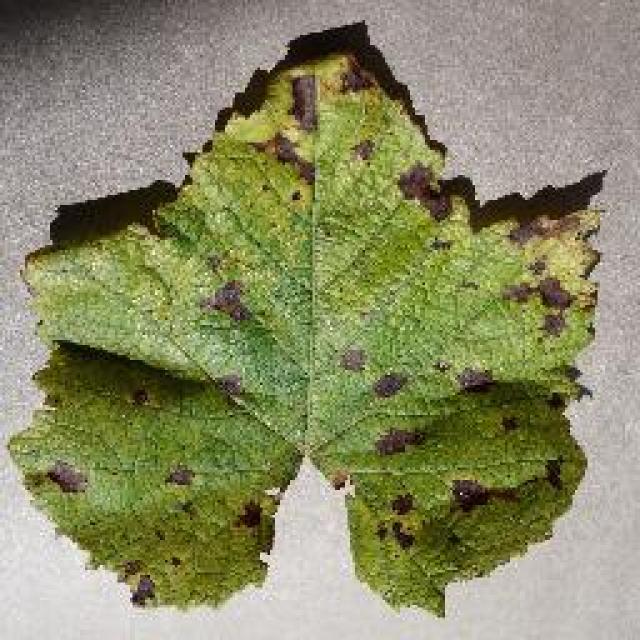Blight Fungus: (17, 36, 607, 634)
